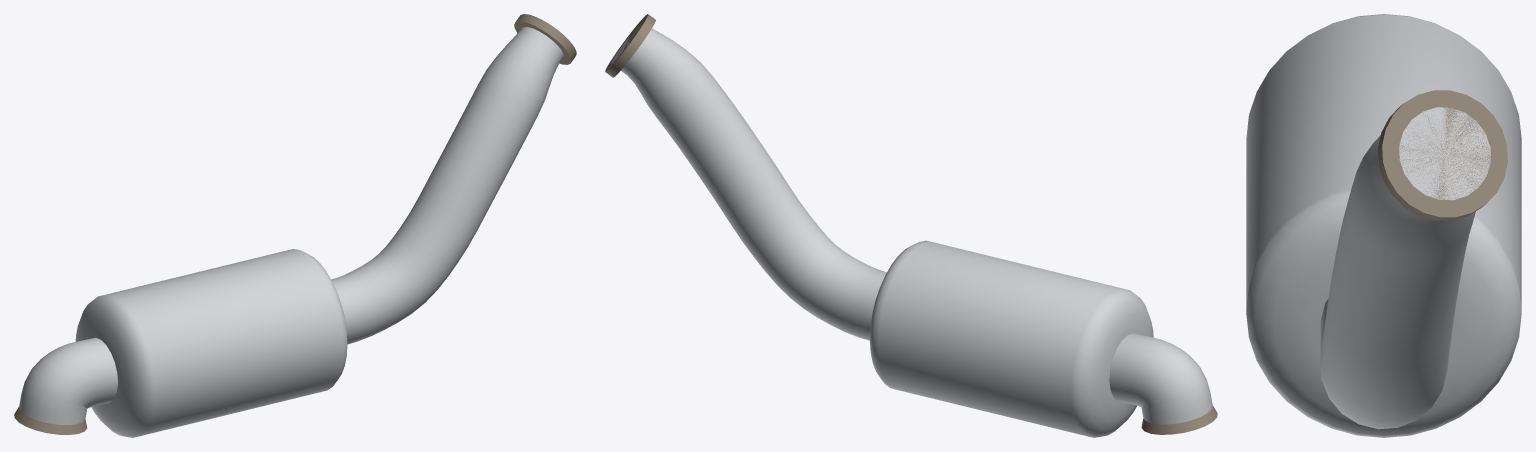
File: exhaust_system_engine_4inch.glb
The picture shows the model from 3 angles, left to right: view 1: azimuth 30°, elevation 25°; view 2: azimuth 150°, elevation 25°; view 3: azimuth 270°, elevation 25°; orthographic projection. The views are drawn at different scales.
Visible parts, largest first — view 1: exhaust_system_engine_4inch; view 2: exhaust_system_engine_4inch; view 3: exhaust_system_engine_4inch.
Part boxes in pixels (left/top/right/bottom): exhaust_system_engine_4inch: left=14, top=14, right=576, bottom=437; exhaust_system_engine_4inch: left=605, top=14, right=1217, bottom=437; exhaust_system_engine_4inch: left=1246, top=14, right=1521, bottom=437.
Size of the model in its own units: 0.9788 by 0.501 by 0.22.
